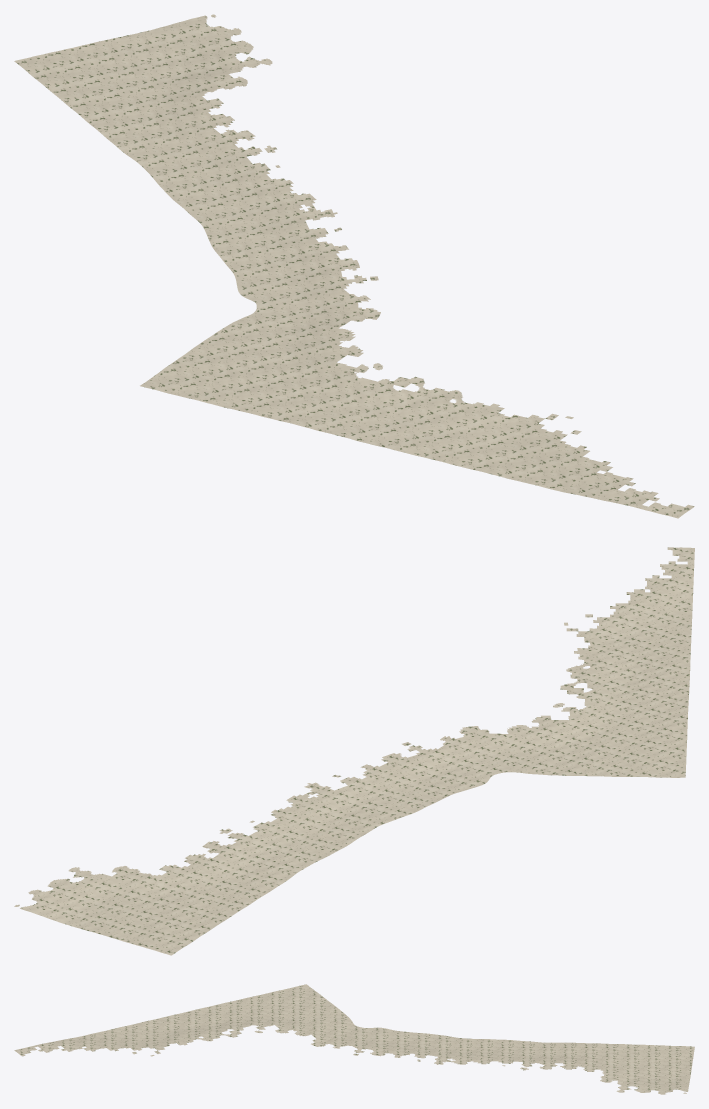
Rendered from ArahaTerrain_Seabed.gltf.
3 renders of one model, top to bottom at view 1: azimuth 30°, elevation 25°; view 2: azimuth 150°, elevation 25°; view 3: azimuth 270°, elevation 25°, orthographic. The views are drawn at different scales.
Visible parts, largest first — view 1: ArahaTerrain_Seabed; view 2: ArahaTerrain_Seabed; view 3: ArahaTerrain_Seabed.
Boxes of the visible parts, x1=… form: ArahaTerrain_Seabed: x1=14, y1=14, x2=694, y2=518; ArahaTerrain_Seabed: x1=14, y1=547, x2=694, y2=955; ArahaTerrain_Seabed: x1=14, y1=984, x2=694, y2=1094.
Bounding box in the file's own units: 512 × 6.22 × 1303.
Materials: 1 (1 with a texture image).
